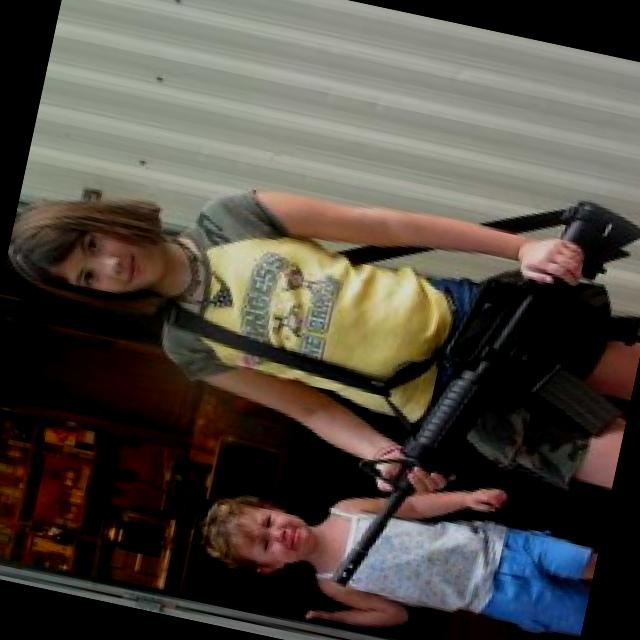long weapon: (324, 129, 639, 635)
